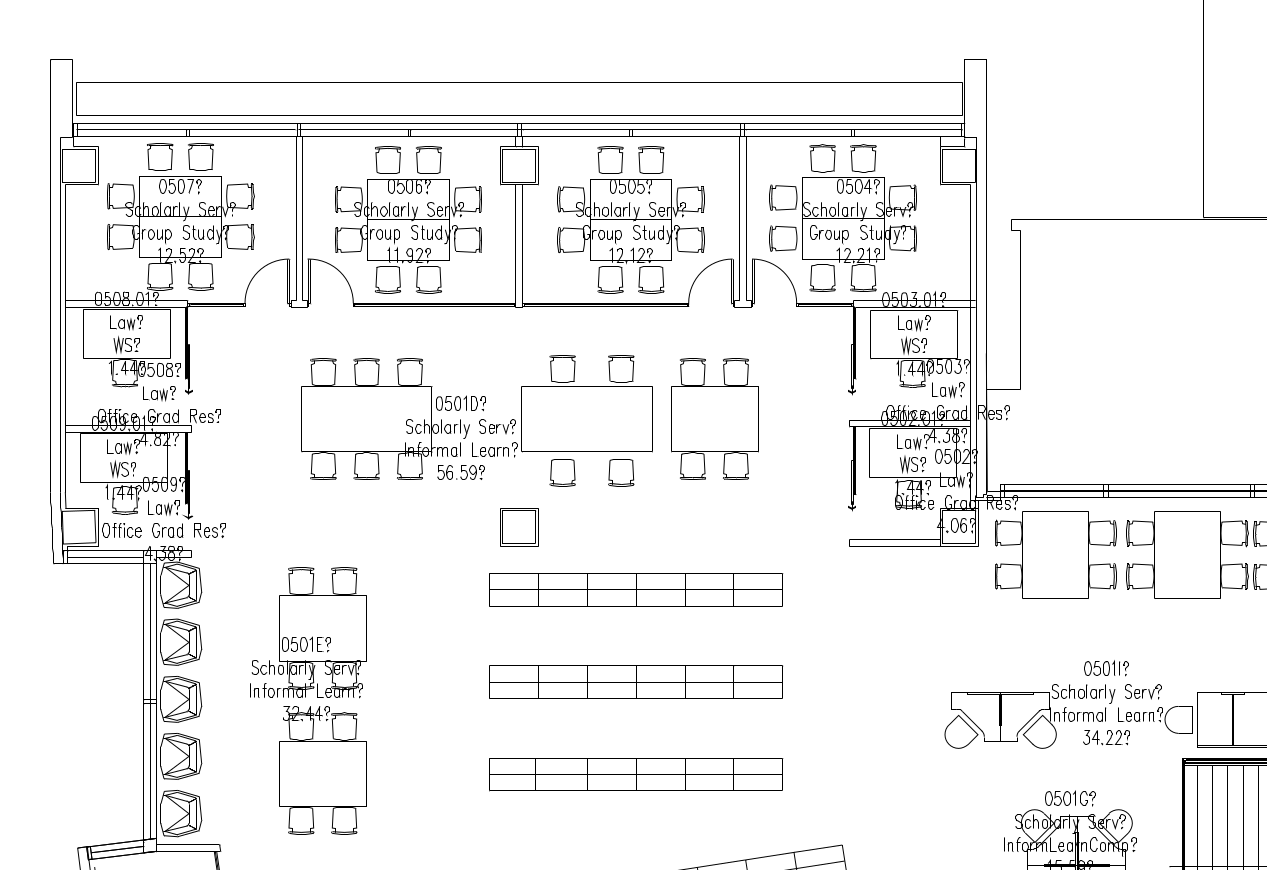door: (243, 254, 293, 316), (304, 253, 354, 315), (687, 255, 737, 317), (750, 254, 800, 316)
